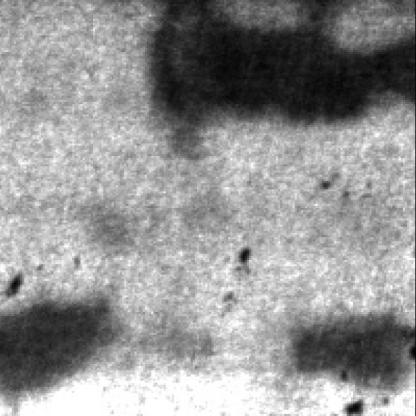patches: (156, 7, 416, 135), (2, 302, 123, 406), (297, 316, 414, 395)
